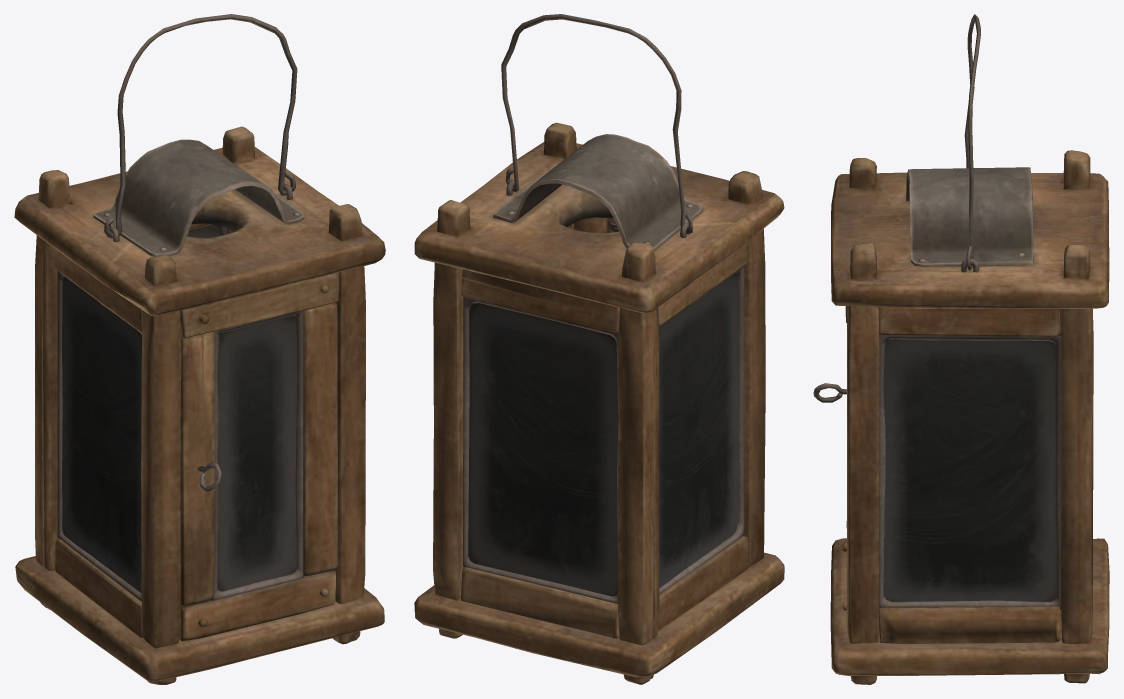
The model's file is wooden_lantern_01.glb.
3 views of the same model, side by side, from view 1: azimuth 30°, elevation 25°; view 2: azimuth 150°, elevation 25°; view 3: azimuth 270°, elevation 25° (orthographic).
Visible parts, largest first — view 1: wooden_lantern_01; view 2: wooden_lantern_01; view 3: wooden_lantern_01.
Boxes of the visible parts, x1,y1,x2,y2 form: wooden_lantern_01: (14,14,385,684); wooden_lantern_01: (414,14,784,684); wooden_lantern_01: (813,14,1109,684).
Bounding box in the file's own units: 0.2211 × 0.5296 × 0.2347.
2 materials, 2 textured.
